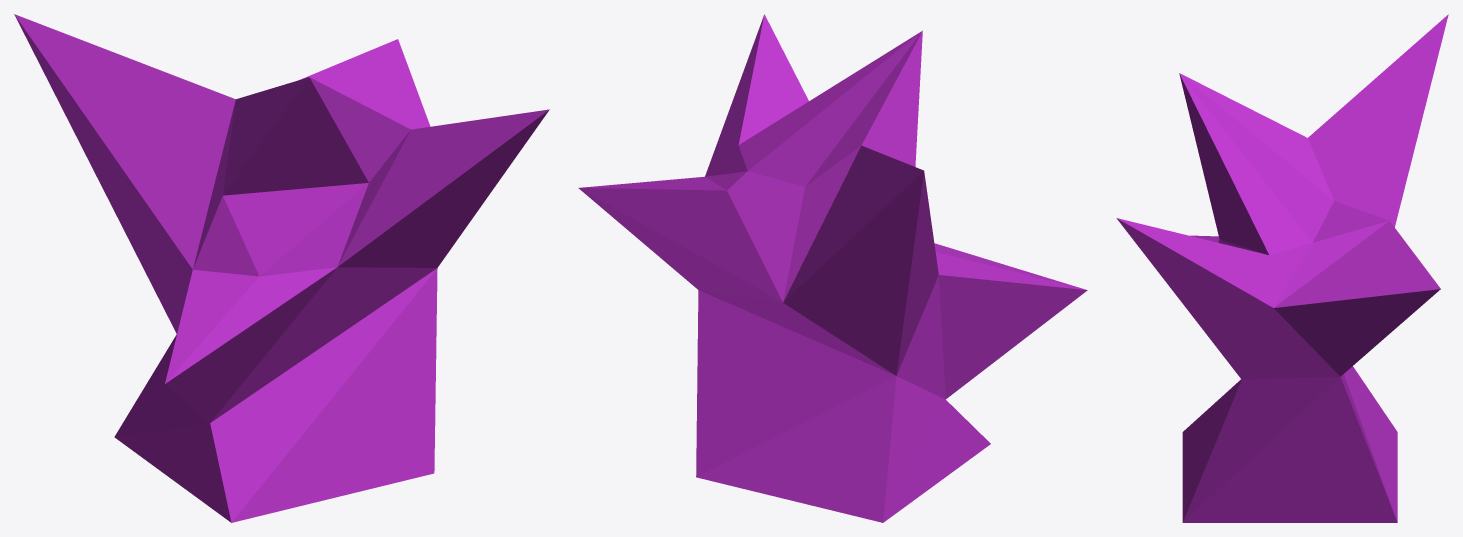
File: magic_crystal.obj
3 views of the same model, side by side, from view 1: azimuth 30°, elevation 25°; view 2: azimuth 150°, elevation 25°; view 3: azimuth 270°, elevation 25° (orthographic). The views are drawn at different scales.
Parts seen in each view (by area): view 1: Cube_Cube.010; view 2: Cube_Cube.010; view 3: Cube_Cube.010.
Boxes of the visible parts, <box> form: Cube_Cube.010: <box>14,14,549,522</box>; Cube_Cube.010: <box>578,14,1087,522</box>; Cube_Cube.010: <box>1116,14,1448,522</box>.
Size of the model in its own units: 1.07 by 1.11 by 0.851.
